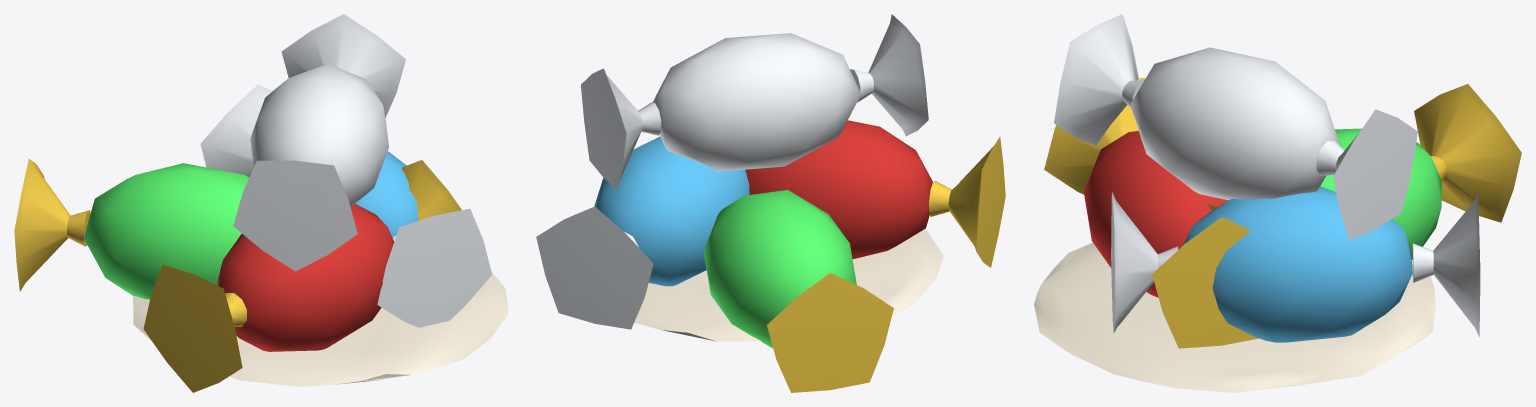
Rendered from WrappedSweets.fbx.
3 renders of one model, left to right at view 1: azimuth 30°, elevation 25°; view 2: azimuth 150°, elevation 25°; view 3: azimuth 270°, elevation 25°, orthographic. The views are drawn at different scales.
Parts seen in each view (by area): view 1: WrappedSweets; view 2: WrappedSweets; view 3: WrappedSweets.
Part boxes in pixels (box(x1,y1,x2,y2)): WrappedSweets: box(14, 14, 507, 392); WrappedSweets: box(536, 14, 1005, 392); WrappedSweets: box(1034, 14, 1521, 392).
Size of the model in its own units: 1.8 by 1.08 by 1.8.
Materials: 2 (2 with a texture image).
